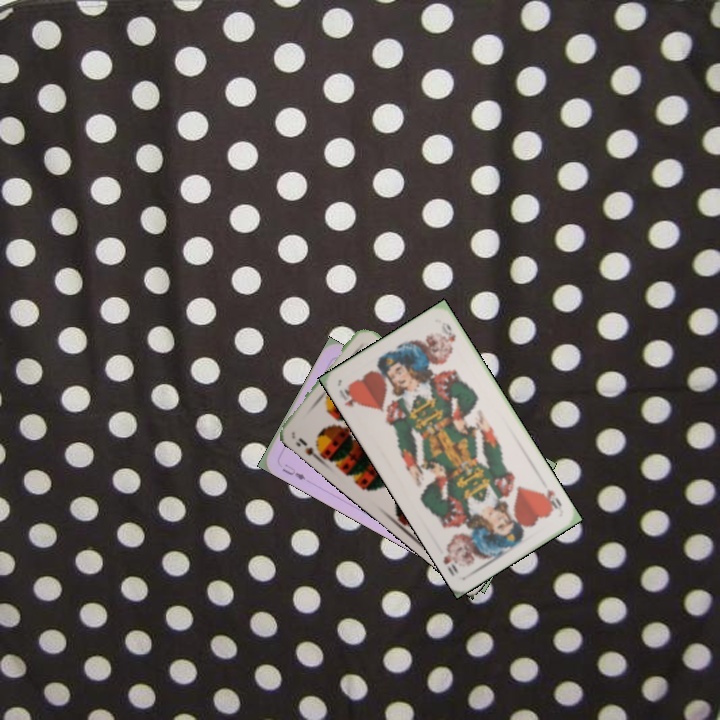EU: (278, 460, 308, 483)
HO: (335, 382, 362, 410), (538, 485, 564, 513)
S9: (292, 434, 326, 463)
